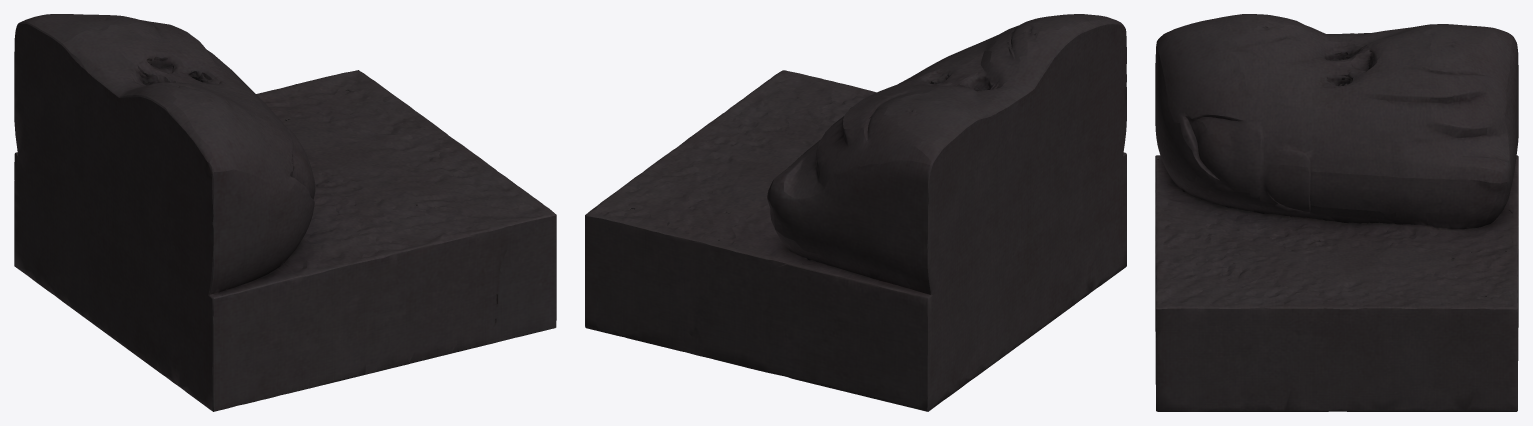
3 renders of one model, left to right at view 1: azimuth 30°, elevation 25°; view 2: azimuth 150°, elevation 25°; view 3: azimuth 270°, elevation 25°, orthographic. The views are drawn at different scales.
Visible parts, largest first — view 1: world; view 2: world; view 3: world.
Boxes of the visible parts, box(x1,y1,x2,y2) form: world: box(14, 14, 556, 411); world: box(585, 14, 1126, 411); world: box(1155, 14, 1518, 411).
Bounding box in the file's own units: 1.2 × 0.9149 × 1.2.
1 material, 1 textured.
